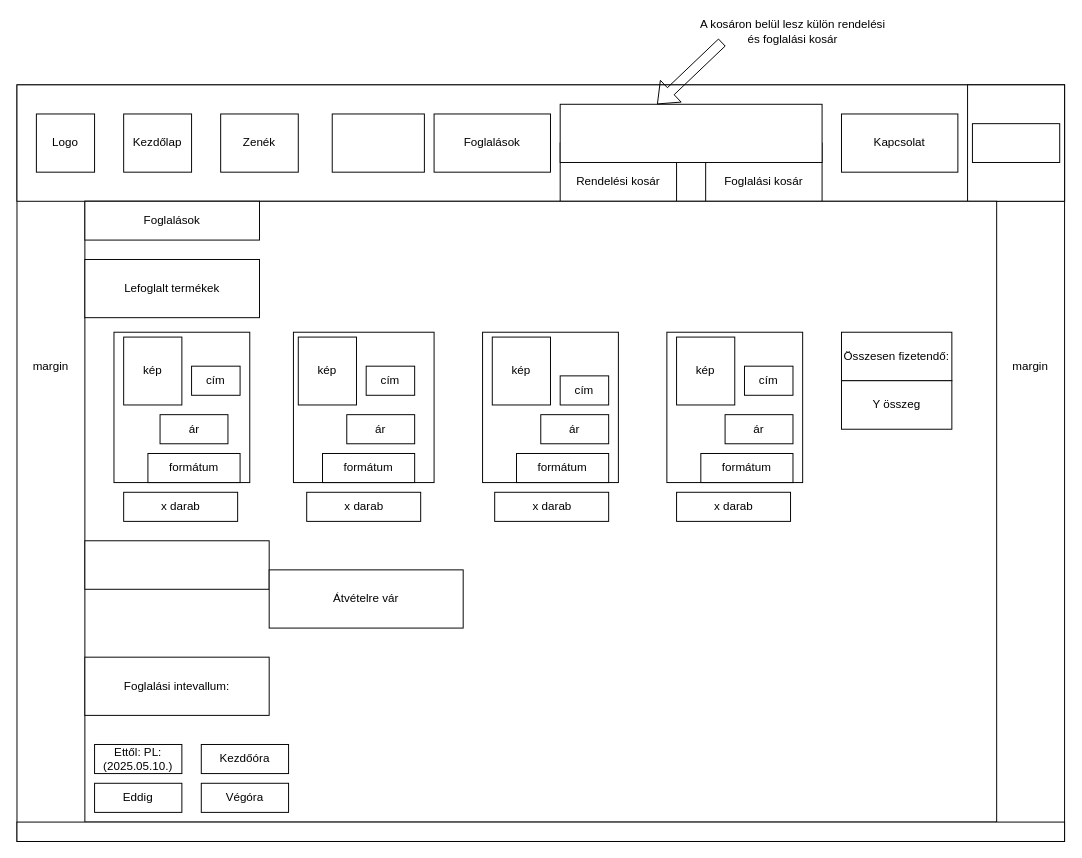
The diagram is 1082 pixels wide and 858 high, and some of its shapes have lost their labels. Each missing label, with the box of its shape:
Filmek/Sorozatok: (331, 113, 424, 172)
Fiók bej/reg: (971, 123, 1060, 162)
Footer: (16, 821, 1065, 841)
Kosár: (559, 103, 822, 162)
Státusz:: (84, 540, 269, 589)
